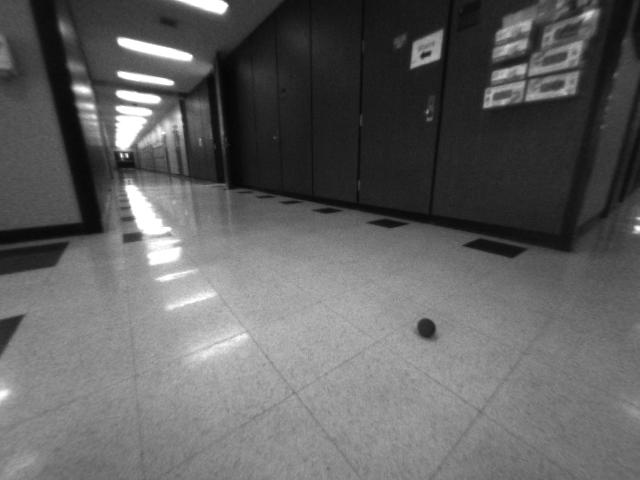dogtoy: (411, 313, 444, 341)
